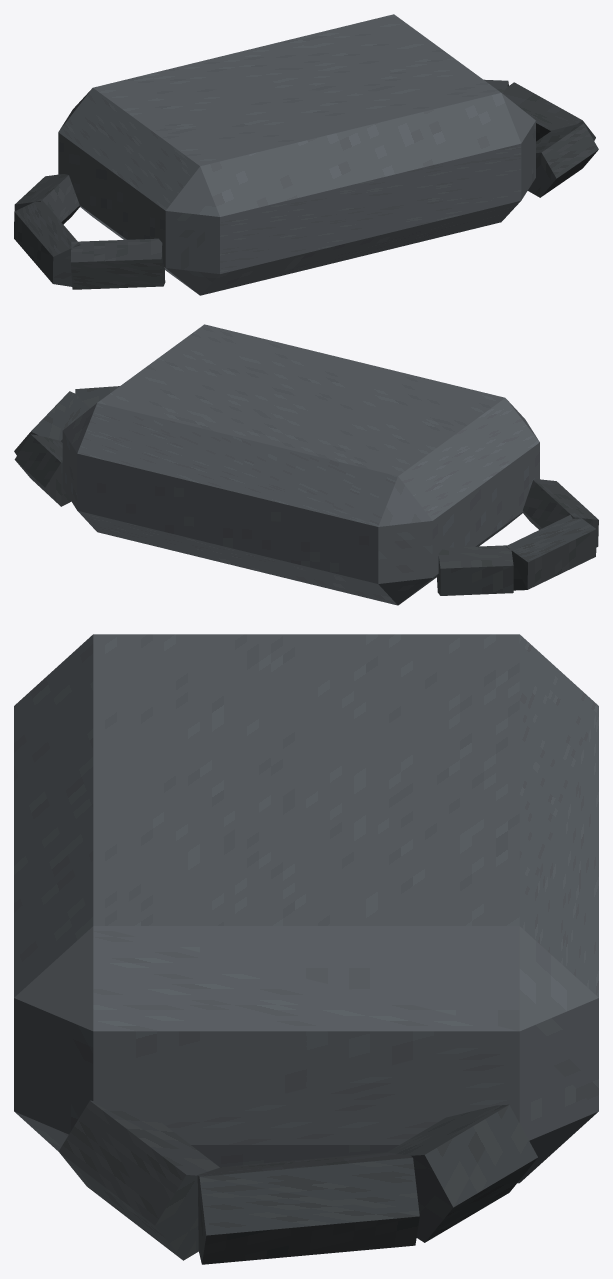
The model's file is armrig.glb.
The picture shows the model from 3 angles, top to bottom: view 1: azimuth 30°, elevation 25°; view 2: azimuth 150°, elevation 25°; view 3: azimuth 270°, elevation 25°; orthographic projection. The views are drawn at different scales.
Visible parts, largest first — view 1: block_pouch body, block_buckled strap 2 (×2), block_buckled strap 1 (×2), block_buckled strap 0; view 2: block_pouch body, block_buckled strap 0 (×2), block_buckled strap 1 (×2), block_buckled strap 2 (×2); view 3: block_pouch body, block_buckled strap 1, block_buckled strap 2, block_buckled strap 0.
Boxes of the visible parts, left/top/right/bottom form: block_pouch body: left=58, top=14, right=535, bottom=295; block_buckled strap 2 (×2): left=70, top=123, right=598, bottom=289; block_buckled strap 1 (×2): left=14, top=82, right=595, bottom=286; block_buckled strap 0: left=14, top=174, right=80, bottom=224; block_pouch body: left=62, top=324, right=539, bottom=605; block_buckled strap 0 (×2): left=14, top=434, right=513, bottom=595; block_buckled strap 1 (×2): left=14, top=391, right=596, bottom=590; block_buckled strap 2 (×2): left=75, top=386, right=598, bottom=547; block_pouch body: left=14, top=634, right=598, bottom=1183; block_buckled strap 1: left=197, top=1152, right=419, bottom=1264; block_buckled strap 2: left=58, top=1100, right=219, bottom=1260; block_buckled strap 0: left=387, top=1104, right=537, bottom=1242.
Bounding box in the file's own units: 0.1729 × 0.0393 × 0.0811.
1 material, 1 textured.
